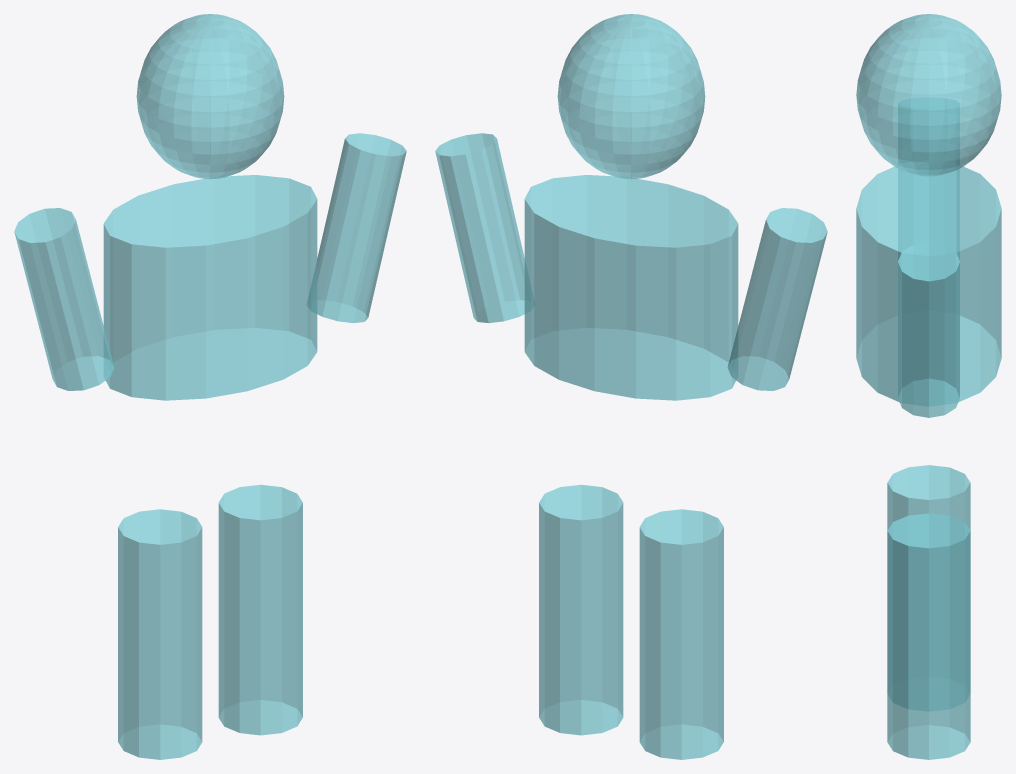
Rendered from placeholder_hologram_v001.glb.
The picture shows the model from 3 angles, left to right: view 1: azimuth 30°, elevation 25°; view 2: azimuth 150°, elevation 25°; view 3: azimuth 270°, elevation 25°; orthographic projection.
Parts seen in each view (by area): view 1: Placeholder_Torso, Placeholder_LegR, Placeholder_LegL, Placeholder_Head, Placeholder_ArmL, Placeholder_ArmR; view 2: Placeholder_Torso, Placeholder_LegR, Placeholder_LegL, Placeholder_Head, Placeholder_ArmL, Placeholder_ArmR; view 3: Placeholder_Torso, Placeholder_LegL, Placeholder_LegR, Placeholder_Head, Placeholder_ArmL, Placeholder_ArmR.
Part boxes in pixels (x1,y1,x2,y2): Placeholder_Torso: (103,175,317,400); Placeholder_LegR: (118,509,202,759); Placeholder_LegL: (218,484,302,735); Placeholder_Head: (136,14,284,179); Placeholder_ArmL: (307,133,406,323); Placeholder_ArmR: (14,208,114,390); Placeholder_Torso: (524,175,738,400); Placeholder_LegR: (639,509,723,759); Placeholder_LegL: (539,484,623,735); Placeholder_Head: (557,14,705,179); Placeholder_ArmL: (435,133,534,323); Placeholder_ArmR: (727,208,827,390); Placeholder_Torso: (856,160,1001,405); Placeholder_LegL: (887,513,970,759); Placeholder_LegR: (887,465,970,710); Placeholder_Head: (856,14,1001,176); Placeholder_ArmL: (898,242,959,417); Placeholder_ArmR: (898,98,959,258).
Size of the model in its own units: 0.8404 by 1.48 by 0.28.
